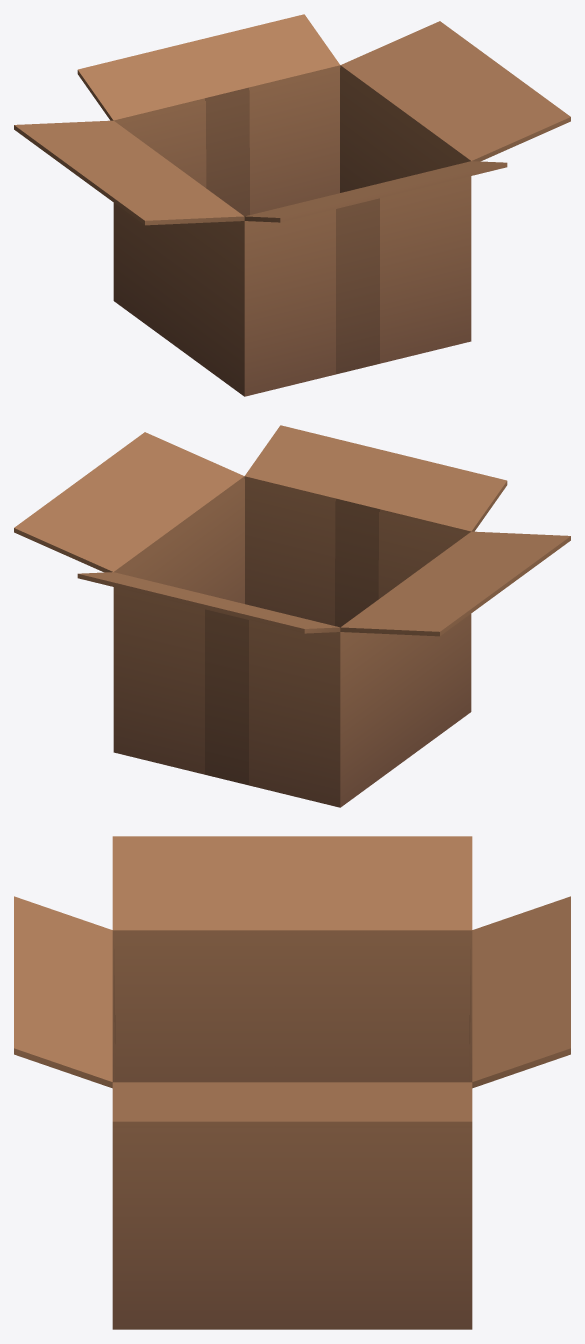
The model's file is CardboardBox_3.fbx.
The picture shows the model from 3 angles, top to bottom: view 1: azimuth 30°, elevation 25°; view 2: azimuth 150°, elevation 25°; view 3: azimuth 270°, elevation 25°; orthographic projection. The views are drawn at different scales.
Visible parts, largest first — view 1: Cube.127; view 2: Cube.127; view 3: Cube.127.
Part boxes in pixels (x1=…): Cube.127: x1=14, y1=14, x2=570, y2=396; Cube.127: x1=14, y1=425, x2=570, y2=807; Cube.127: x1=14, y1=836, x2=570, y2=1329.
Bounding box in the file's own units: 188 × 86.36 × 155.
